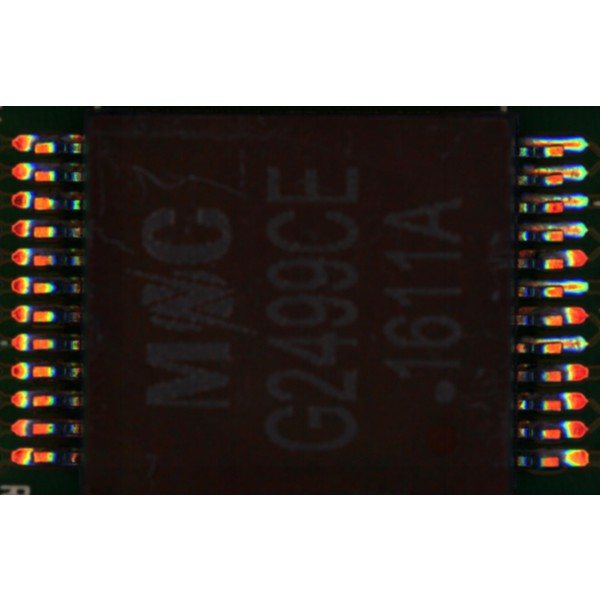Bad_qiaojiao: (525, 138, 566, 146), (527, 281, 565, 288), (528, 166, 561, 174), (528, 196, 565, 203), (526, 337, 561, 344), (525, 225, 565, 230)
